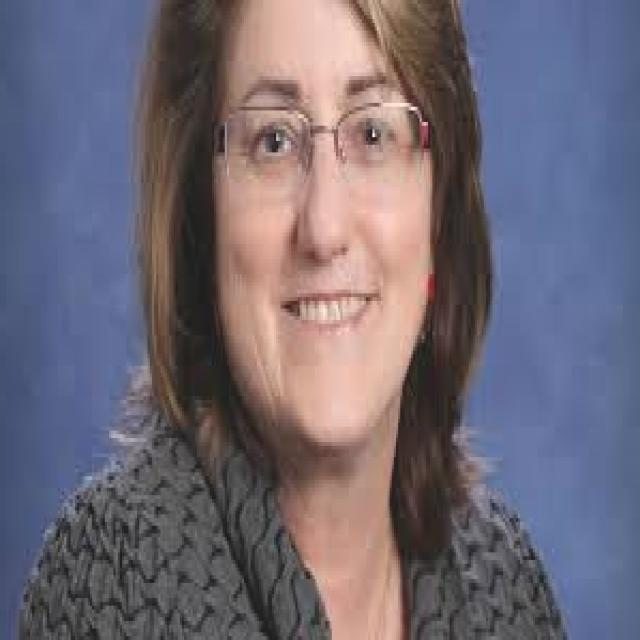normal_face: (165, 3, 449, 470)
